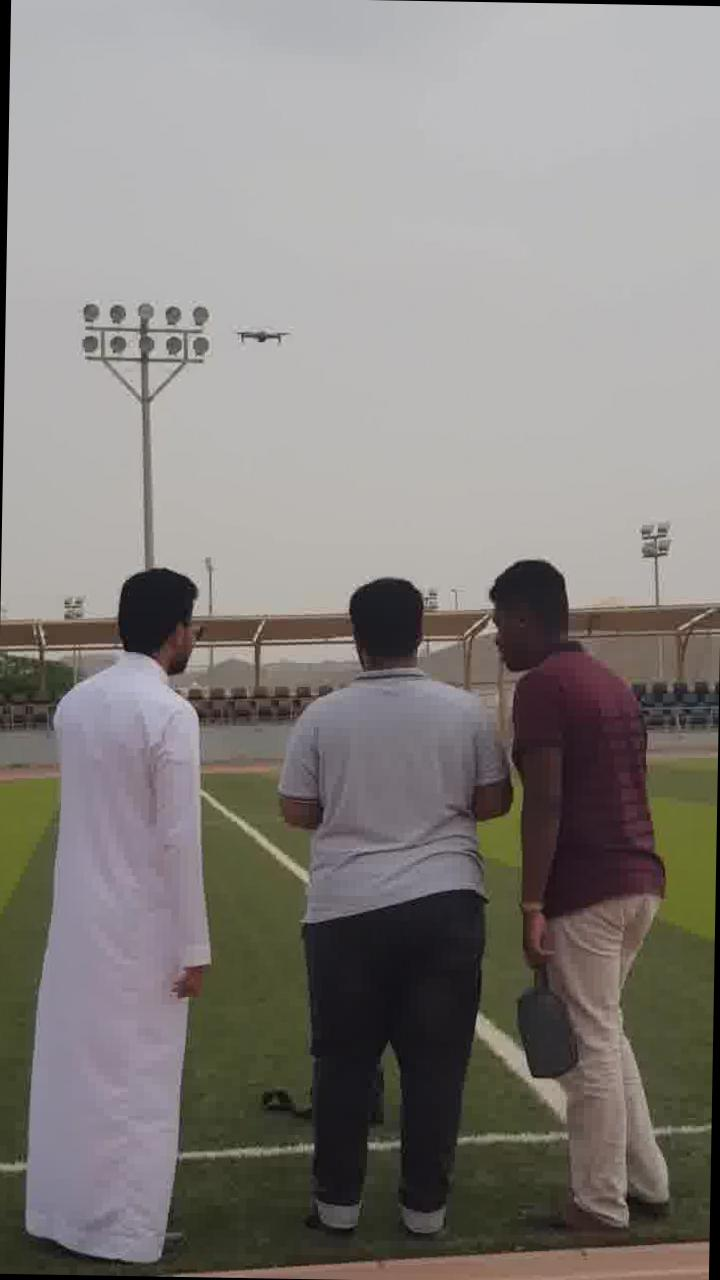drone: (222, 322, 292, 362)
